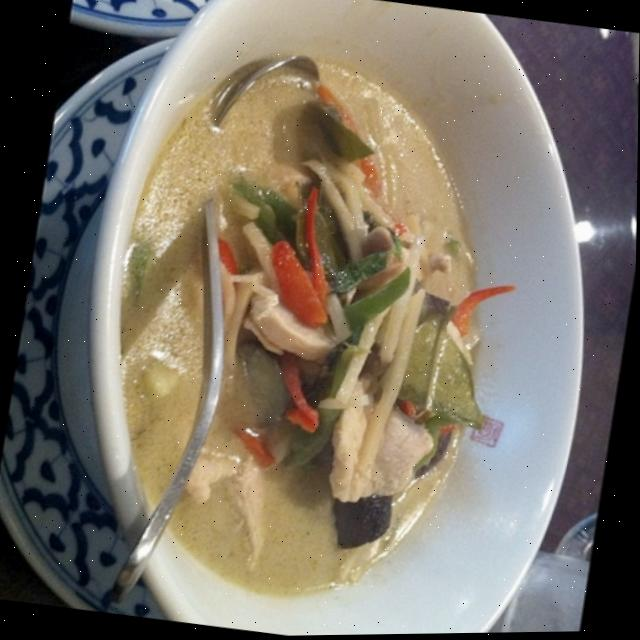三明治: (13, 0, 637, 531)
